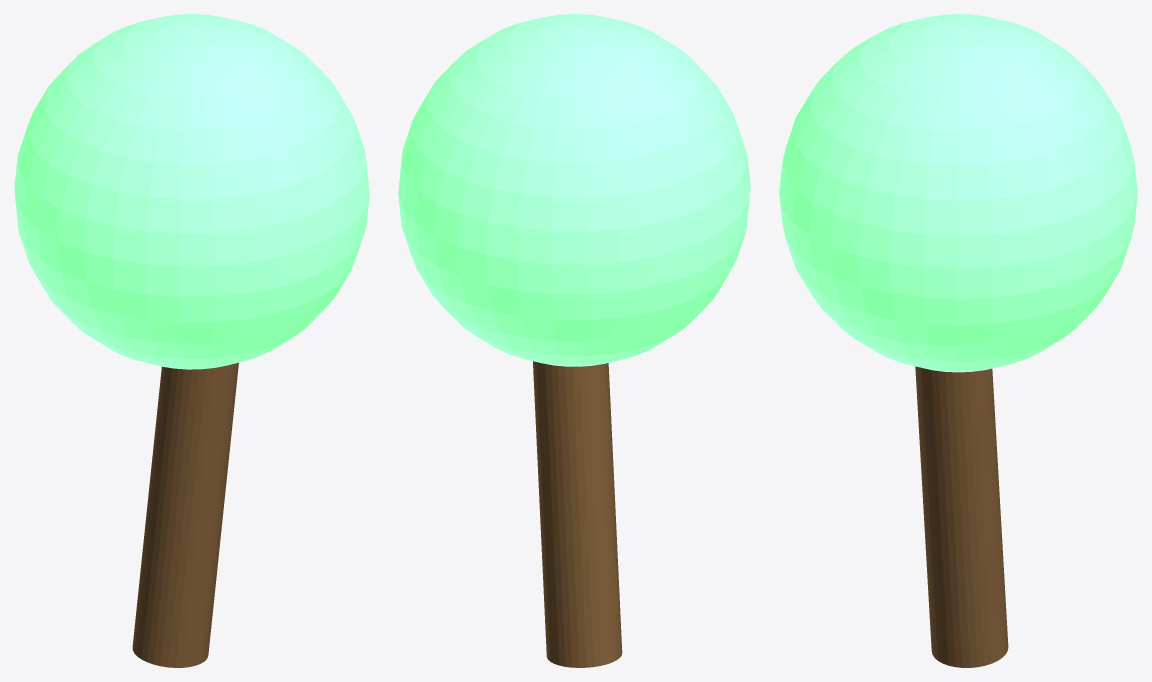
Rendered from magic_tree.glb.
3 views of the same model, side by side, from view 1: azimuth 30°, elevation 25°; view 2: azimuth 150°, elevation 25°; view 3: azimuth 270°, elevation 25° (orthographic).
Parts seen in each view (by area): view 1: Canopy; view 2: Canopy; view 3: Canopy.
Boxes of the visible parts, bbox=[...] form: Canopy: bbox=[14, 14, 369, 667]; Canopy: bbox=[398, 14, 750, 667]; Canopy: bbox=[779, 14, 1137, 667].
Bounding box in the file's own units: 1.4 × 2.71 × 1.4.
